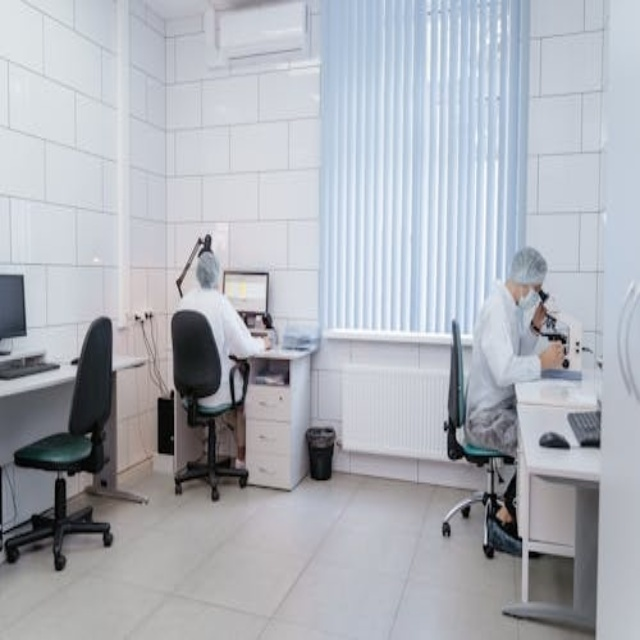Mascara: (518, 285, 541, 313)
Sin_guantes: (539, 334, 567, 375)
